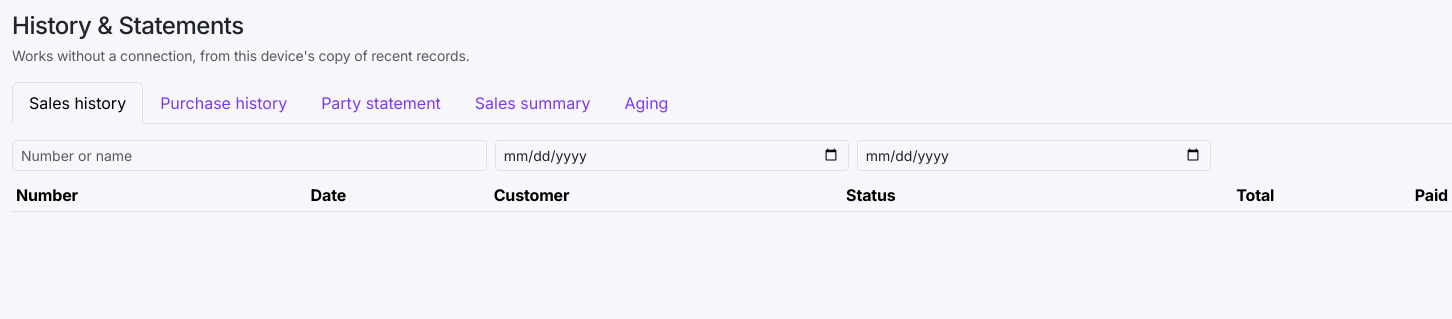
History & Statements (offline) › a view that was never downloaded says so instead of showing an empty table as if it were the truth
The width and height of the screenshot is (1452, 319).
Click the tab "Purchase history" at [224, 103], box [143,82,304,124]
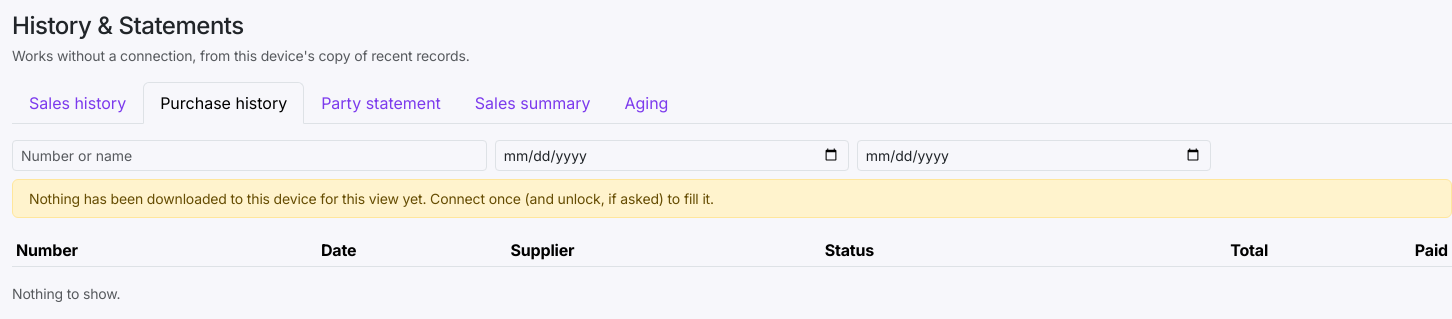
Expected: the text with test id "asof" shows "Nothing has been downloaded", [29,190,714,207]
